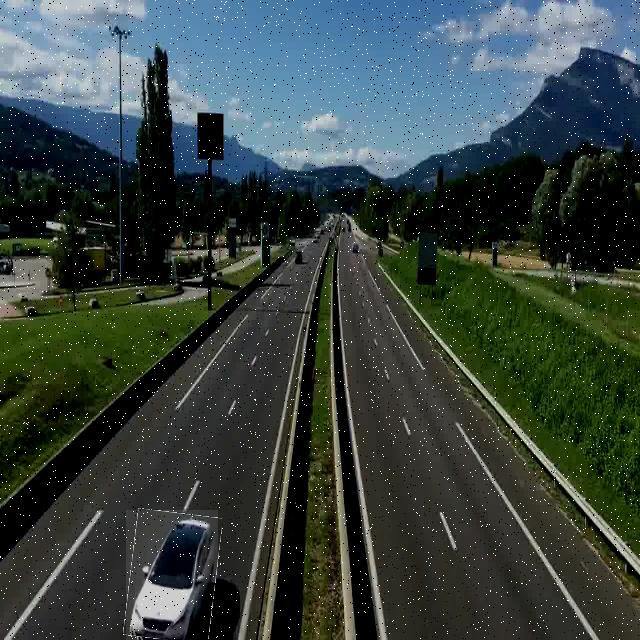Car: (126, 510, 218, 640)
